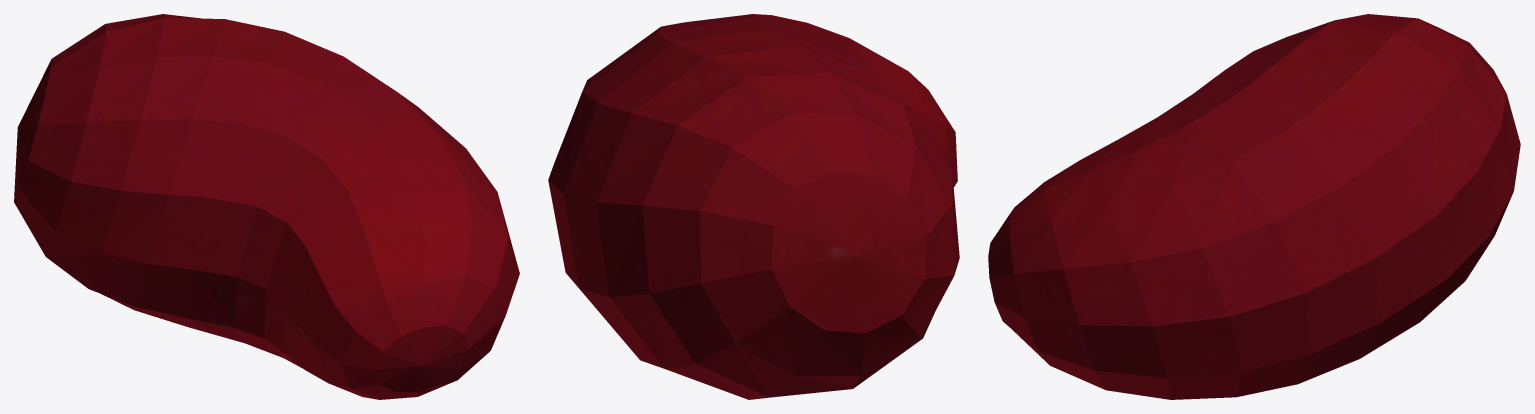
The model's file is kidney_L_LP.glb.
3 renders of one model, left to right at view 1: azimuth 30°, elevation 25°; view 2: azimuth 150°, elevation 25°; view 3: azimuth 270°, elevation 25°, orthographic. The views are drawn at different scales.
Parts seen in each view (by area): view 1: kidney_L_LP; view 2: kidney_L_LP; view 3: kidney_L_LP.
Boxes of the visible parts, <box> form: kidney_L_LP: <box>14,14,519,399</box>; kidney_L_LP: <box>548,14,959,399</box>; kidney_L_LP: <box>988,14,1520,399</box>.
Size of the model in its own units: 0.00102 by 0.000795 by 0.00125.
1 material, 1 textured.
